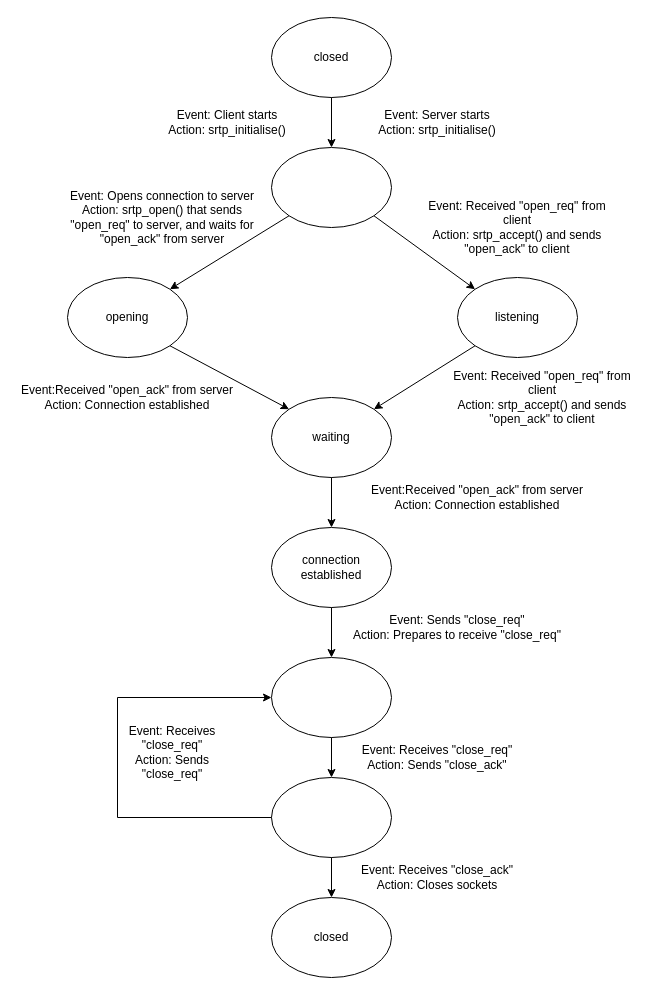
The diagram is 664 pixels wide and 995 high, and some of its shapes have lost their labels. Each missing label, with the centre of its shape:
"close_i" goes at point (331, 697).
"close_r" goes at point (331, 817).
"srtp_initialise()" goes at point (331, 187).
